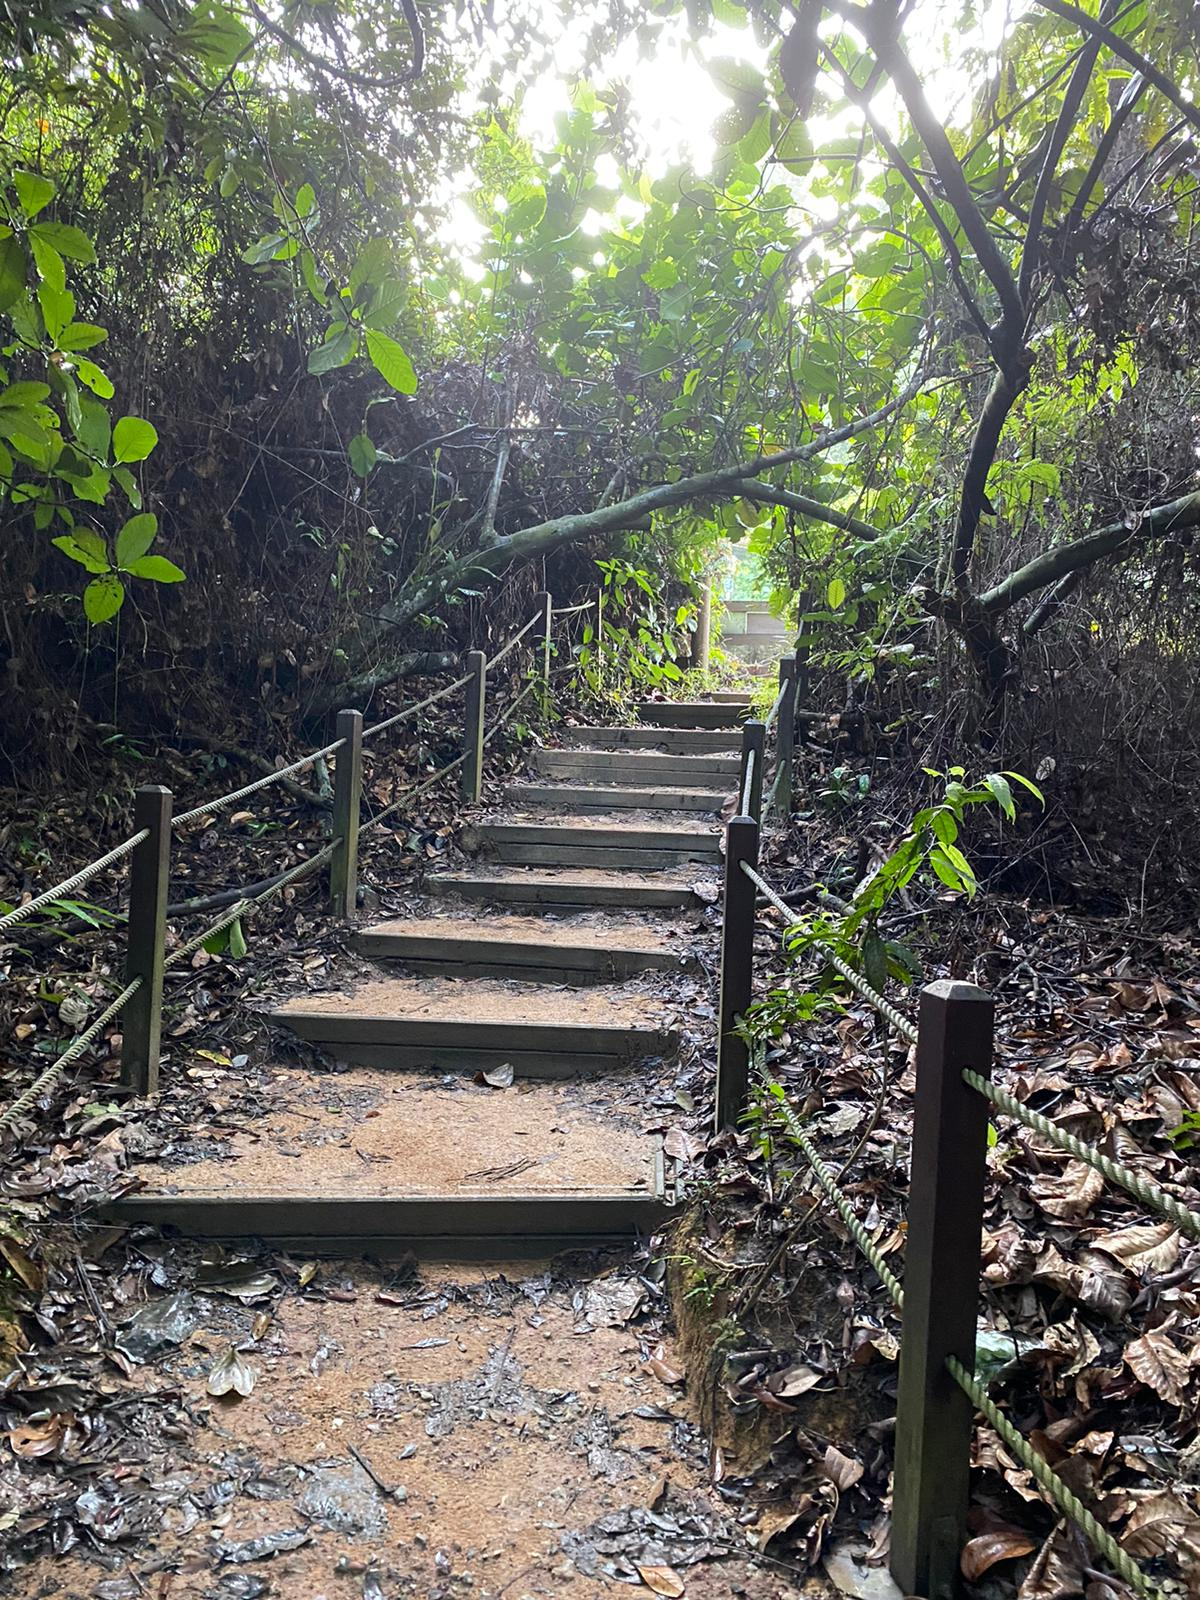upstairs: (170, 983, 681, 1395)
